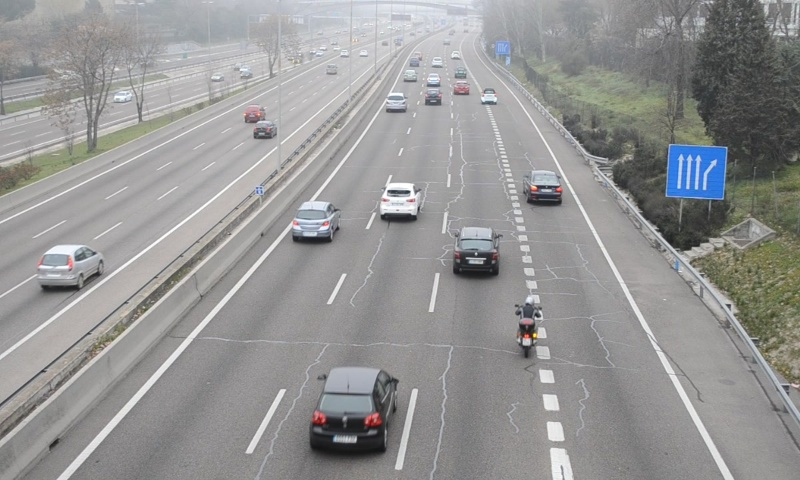car: (310, 365, 398, 449), (452, 226, 498, 274), (292, 200, 339, 240), (379, 182, 420, 218), (524, 170, 563, 204), (384, 91, 408, 113), (424, 88, 442, 106), (480, 86, 496, 104), (453, 80, 470, 96)
motorcycle: (514, 297, 542, 358)
